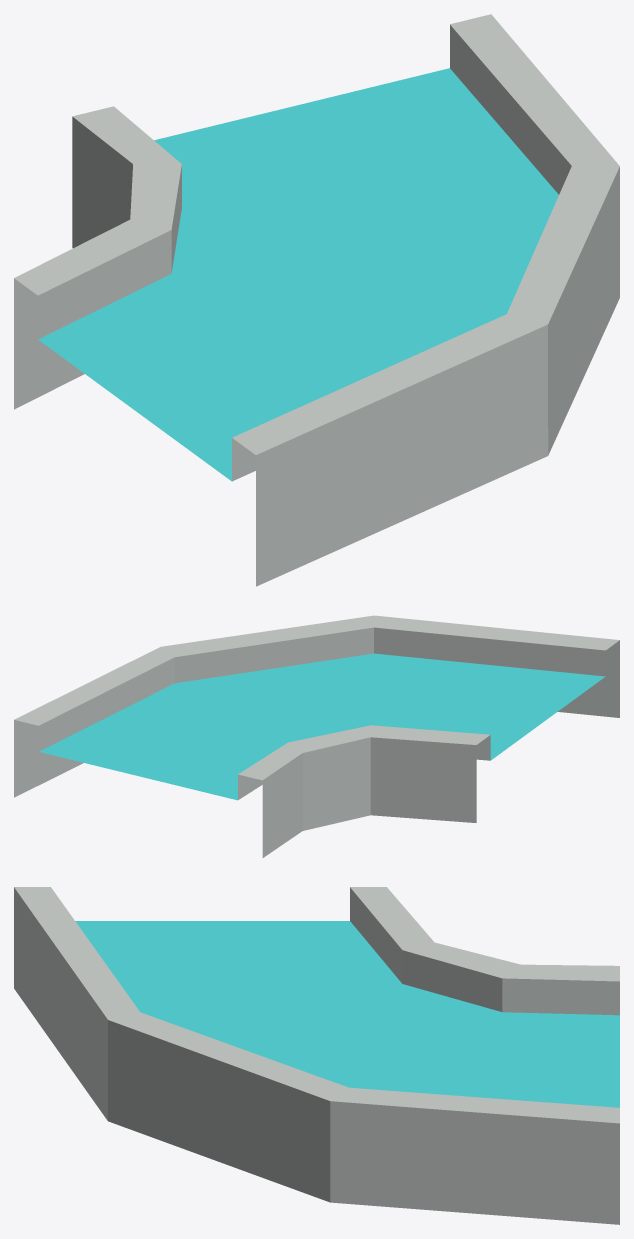
The model's file is Water_Ride_C_Right.fbx.
3 renders of one model, top to bottom at view 1: azimuth 30°, elevation 25°; view 2: azimuth 150°, elevation 25°; view 3: azimuth 270°, elevation 25°, orthographic. The views are drawn at different scales.
Visible parts, largest first — view 1: Water_Ride_C_R; view 2: Water_Ride_C_R; view 3: Water_Ride_C_R.
Boxes of the visible parts, x1,y1,x2,y2 form: Water_Ride_C_R: (14,14,619,586); Water_Ride_C_R: (14,615,619,857); Water_Ride_C_R: (14,887,619,1224).
Bounding box in the file's own units: 600 × 120 × 650.
